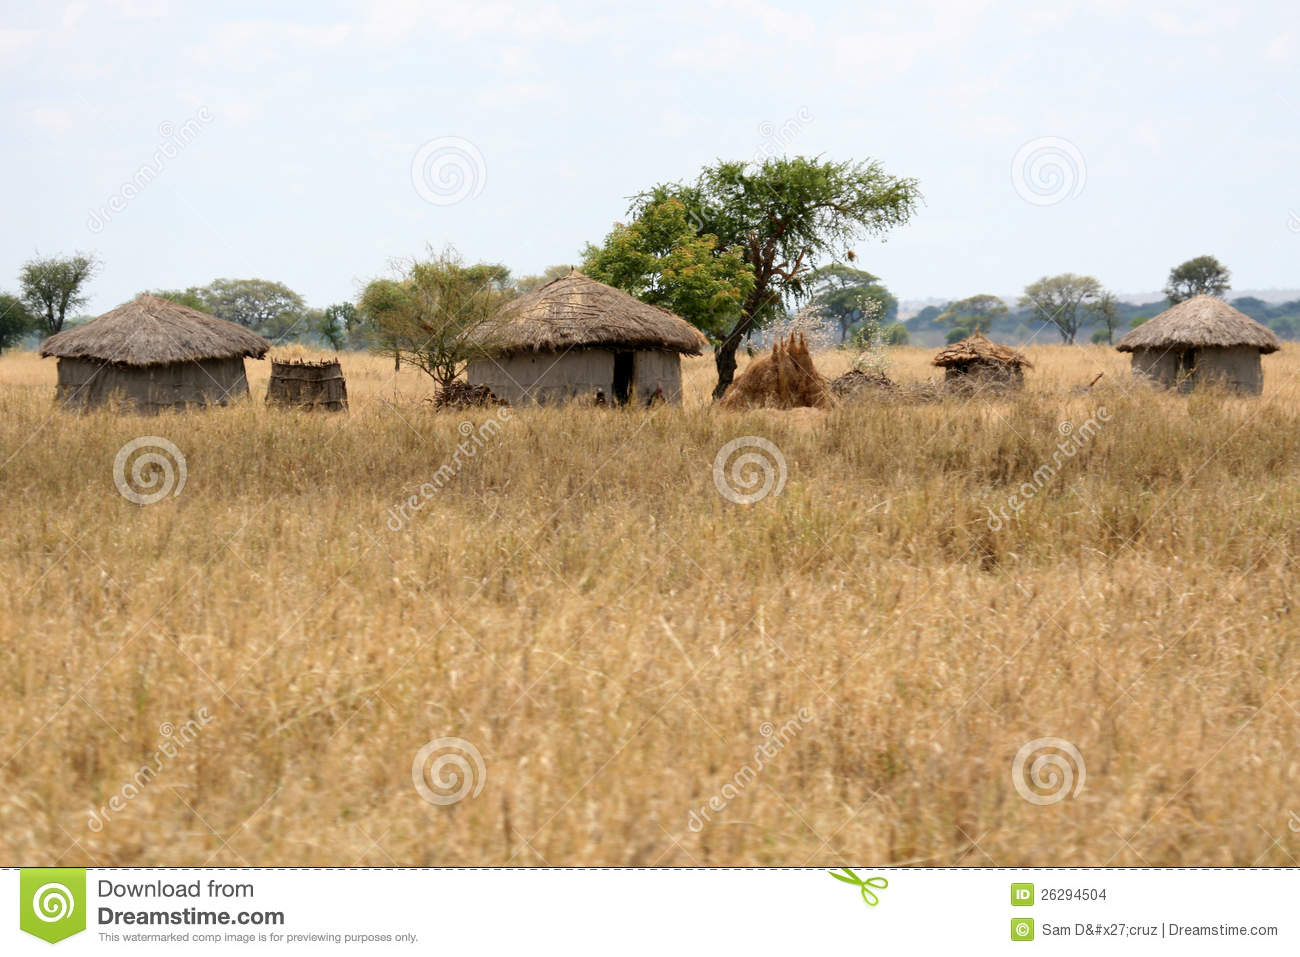Mud House: (463, 278, 707, 420), (57, 285, 270, 423), (1076, 294, 1299, 401), (932, 323, 1049, 408)
